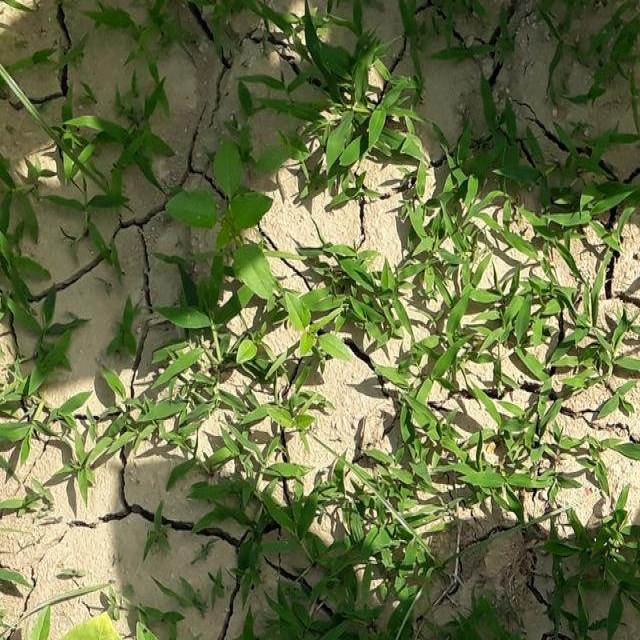weed: (280, 239, 640, 639), (263, 49, 446, 232), (108, 302, 265, 490)
